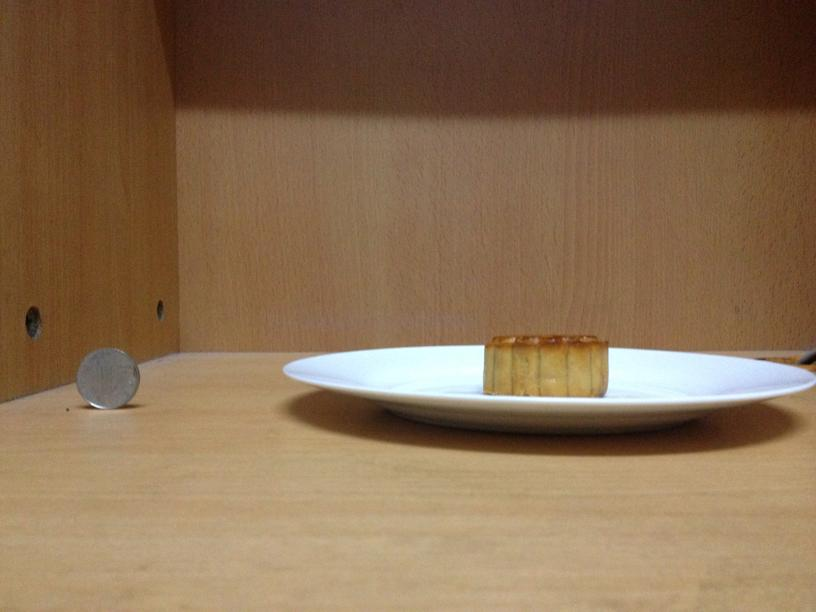coin: (74, 346, 141, 410)
mooncake: (484, 331, 609, 397)
